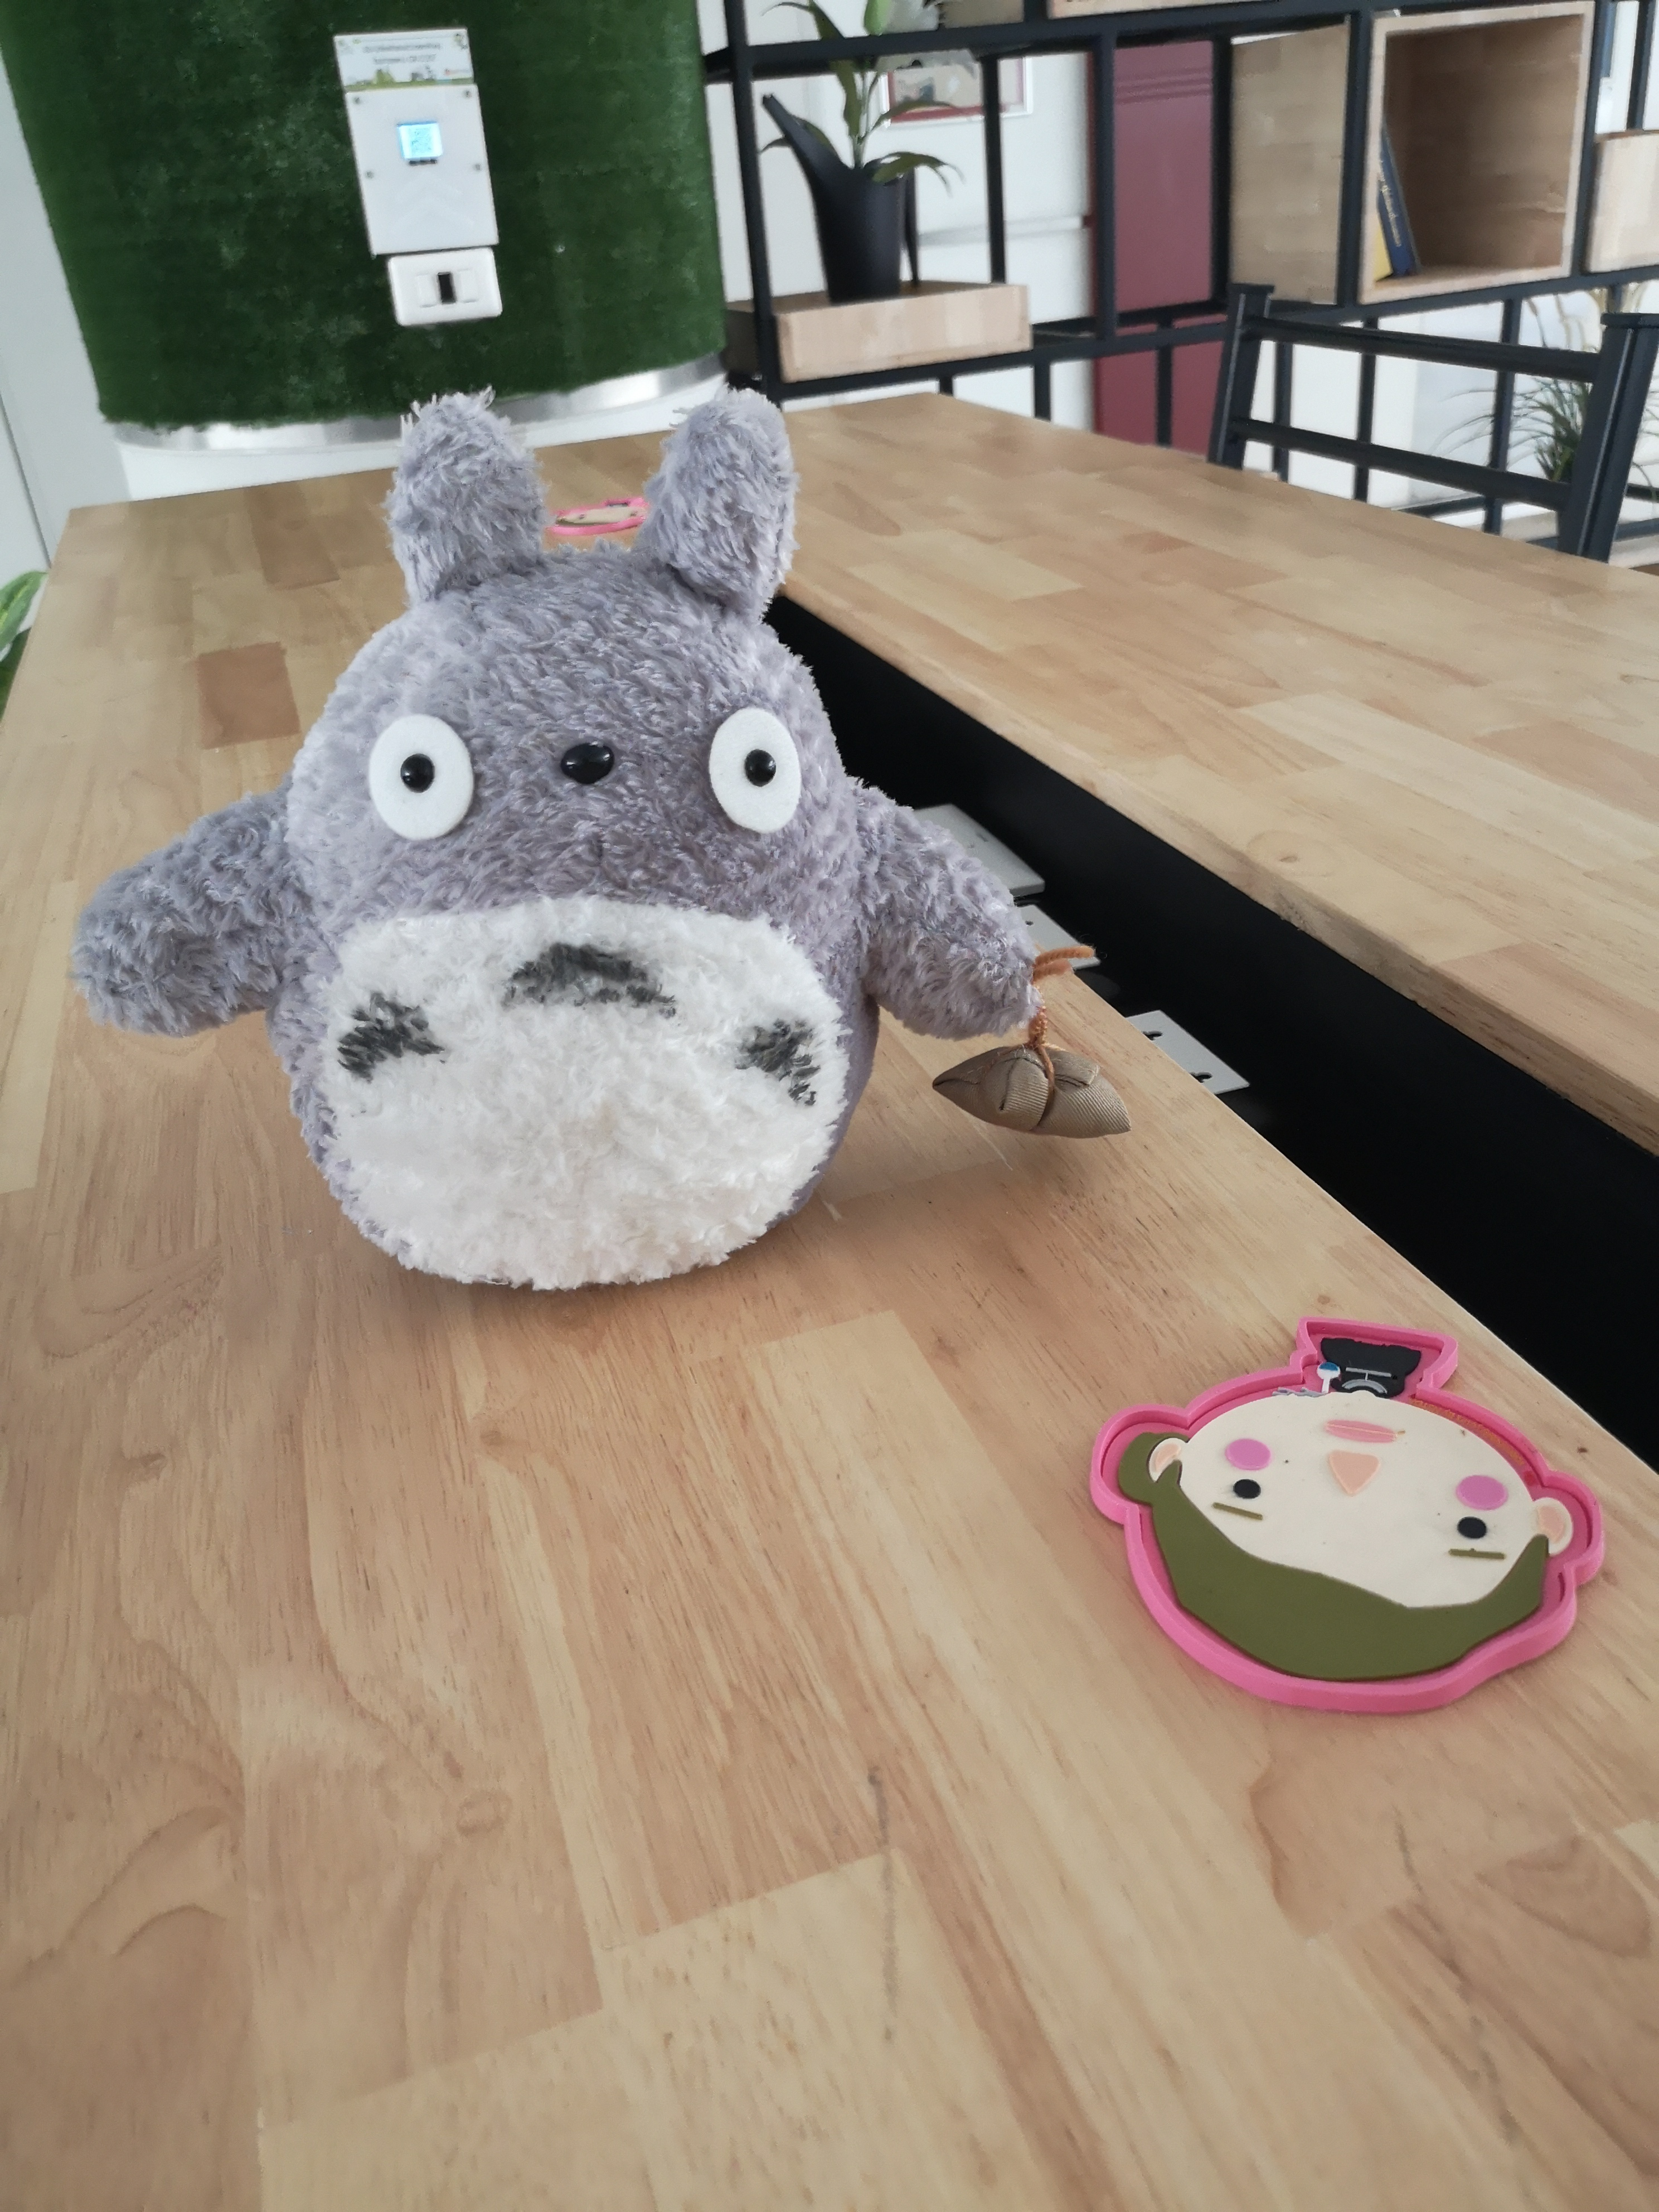totoro: (58, 381, 1129, 1308)
